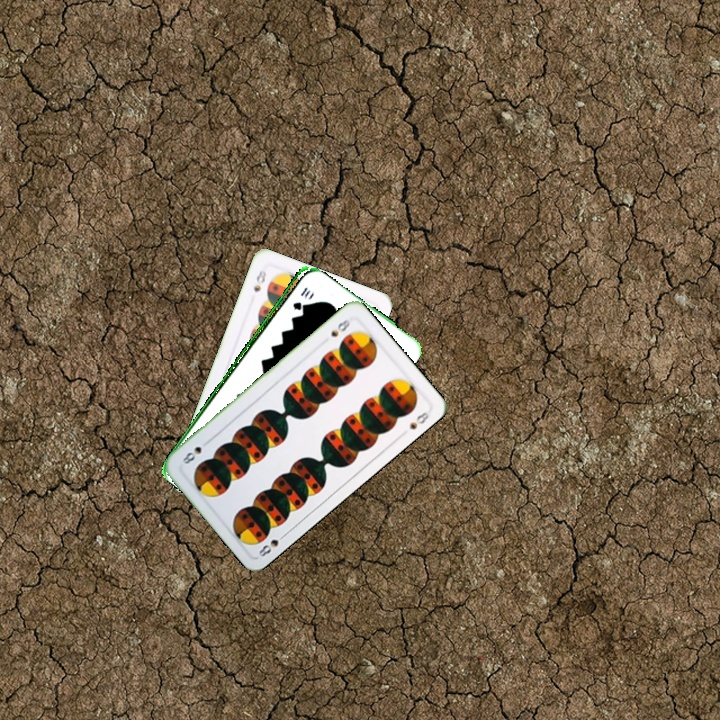G10: (289, 283, 310, 312)
S8: (254, 529, 290, 559), (326, 315, 353, 339), (249, 266, 269, 295)
